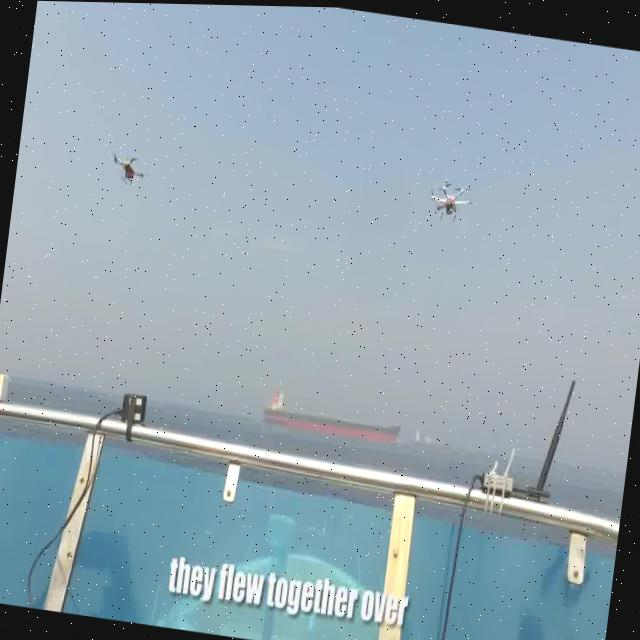drone: (76, 105, 180, 225)
